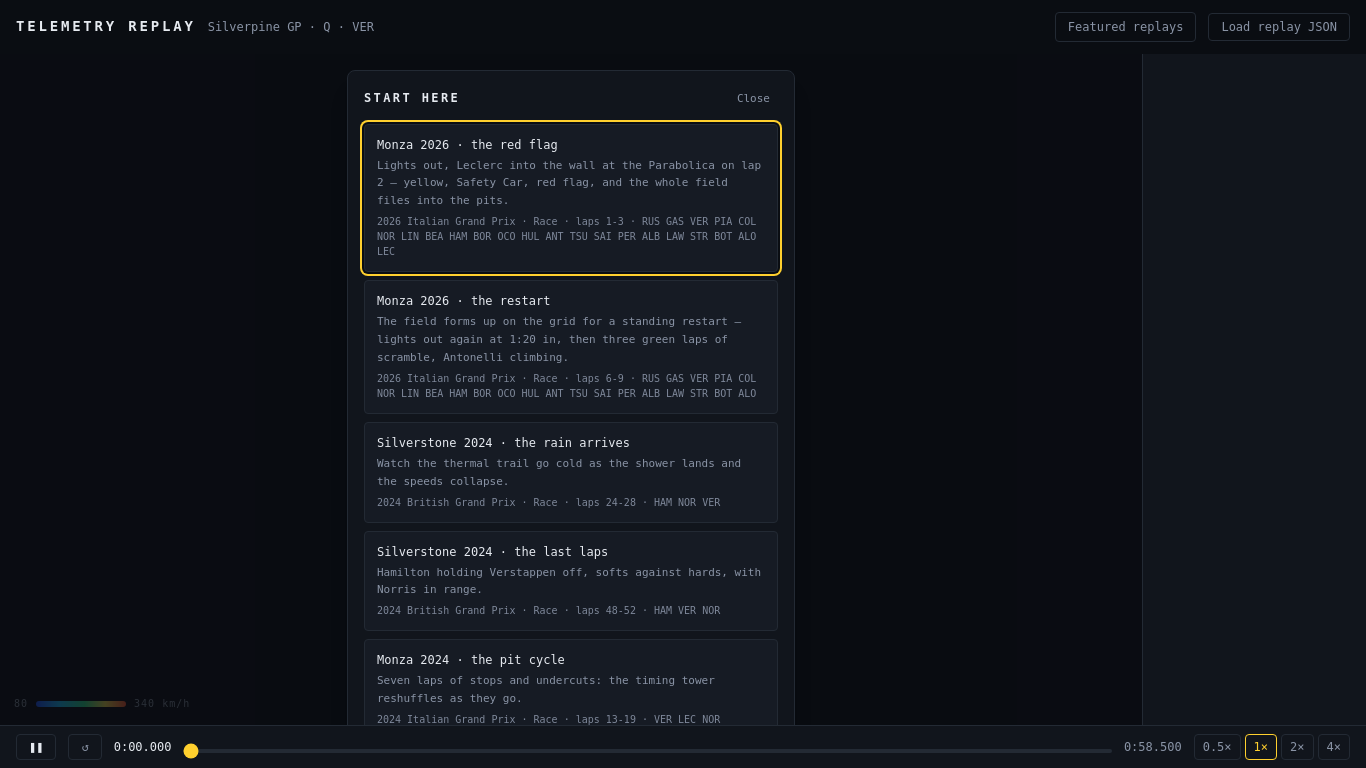
Scenario: the featured-replay gallery › returns focus to the toggle when closed by the close button
What coordinates should you click on to do the following:
click the button "Close"
I would click on:
 (753, 99)
Its box is [729, 87, 778, 112].
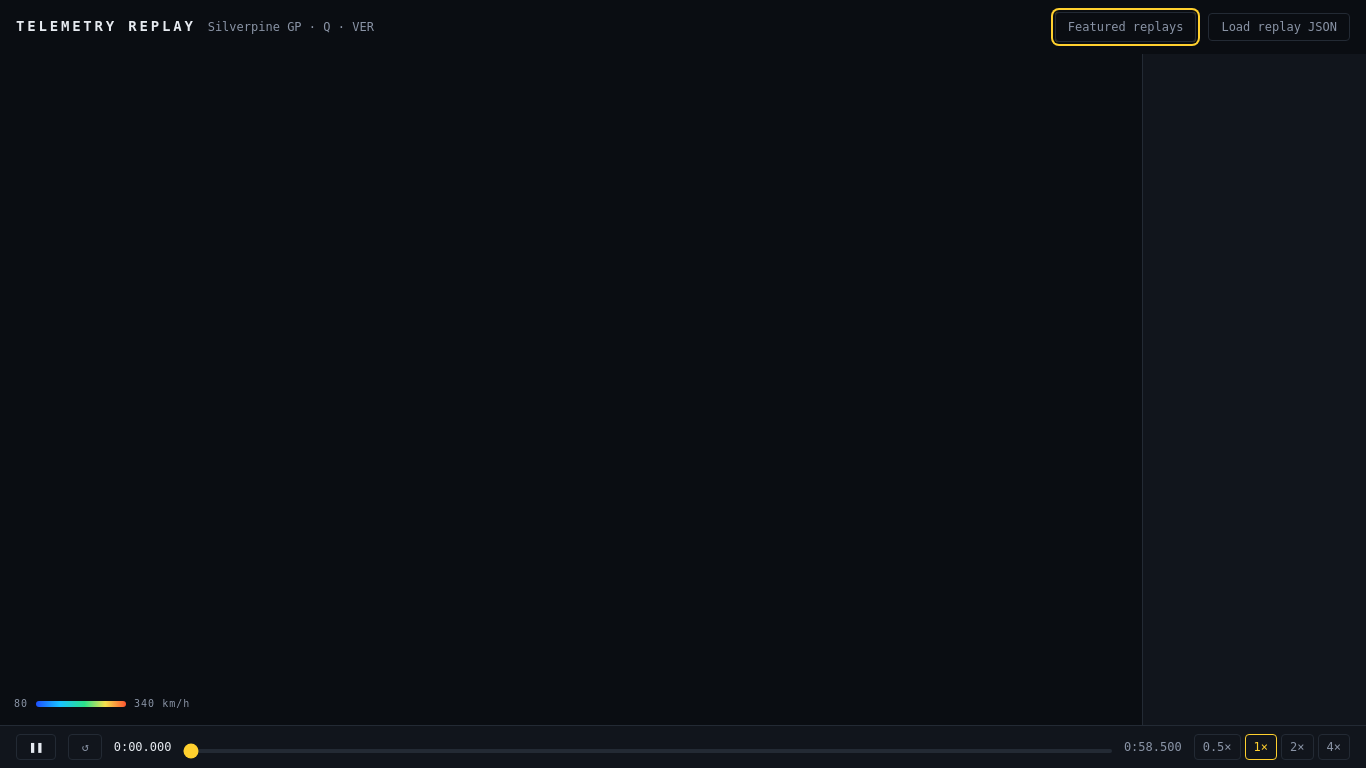
Now the dialog is gone
